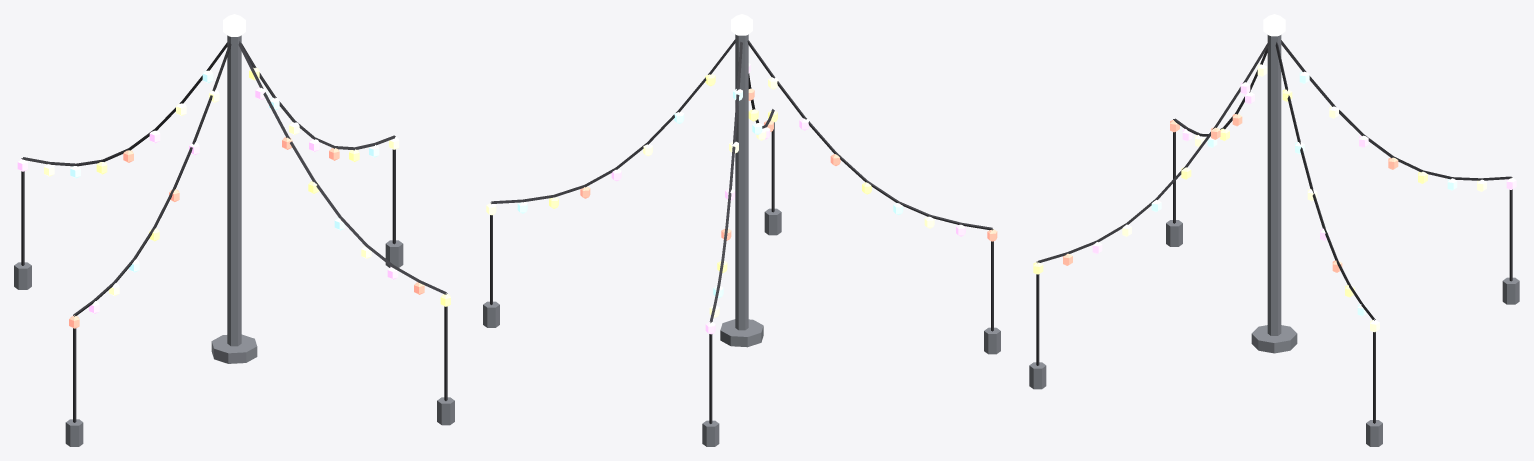
Rendered from arena_lights.glb.
3 renders of one model, left to right at view 1: azimuth 30°, elevation 25°; view 2: azimuth 150°, elevation 25°; view 3: azimuth 270°, elevation 25°, orthographic. The views are drawn at different scales.
Parts seen in each view (by area): view 1: arena_lights; view 2: arena_lights; view 3: arena_lights.
Boxes of the visible parts, box(x1,y1,x2,y2) form: arena_lights: box(14, 14, 454, 446); arena_lights: box(483, 14, 1000, 446); arena_lights: box(1029, 14, 1519, 446).
Bounding box in the file's own units: 8.55 × 6.38 × 8.59.
